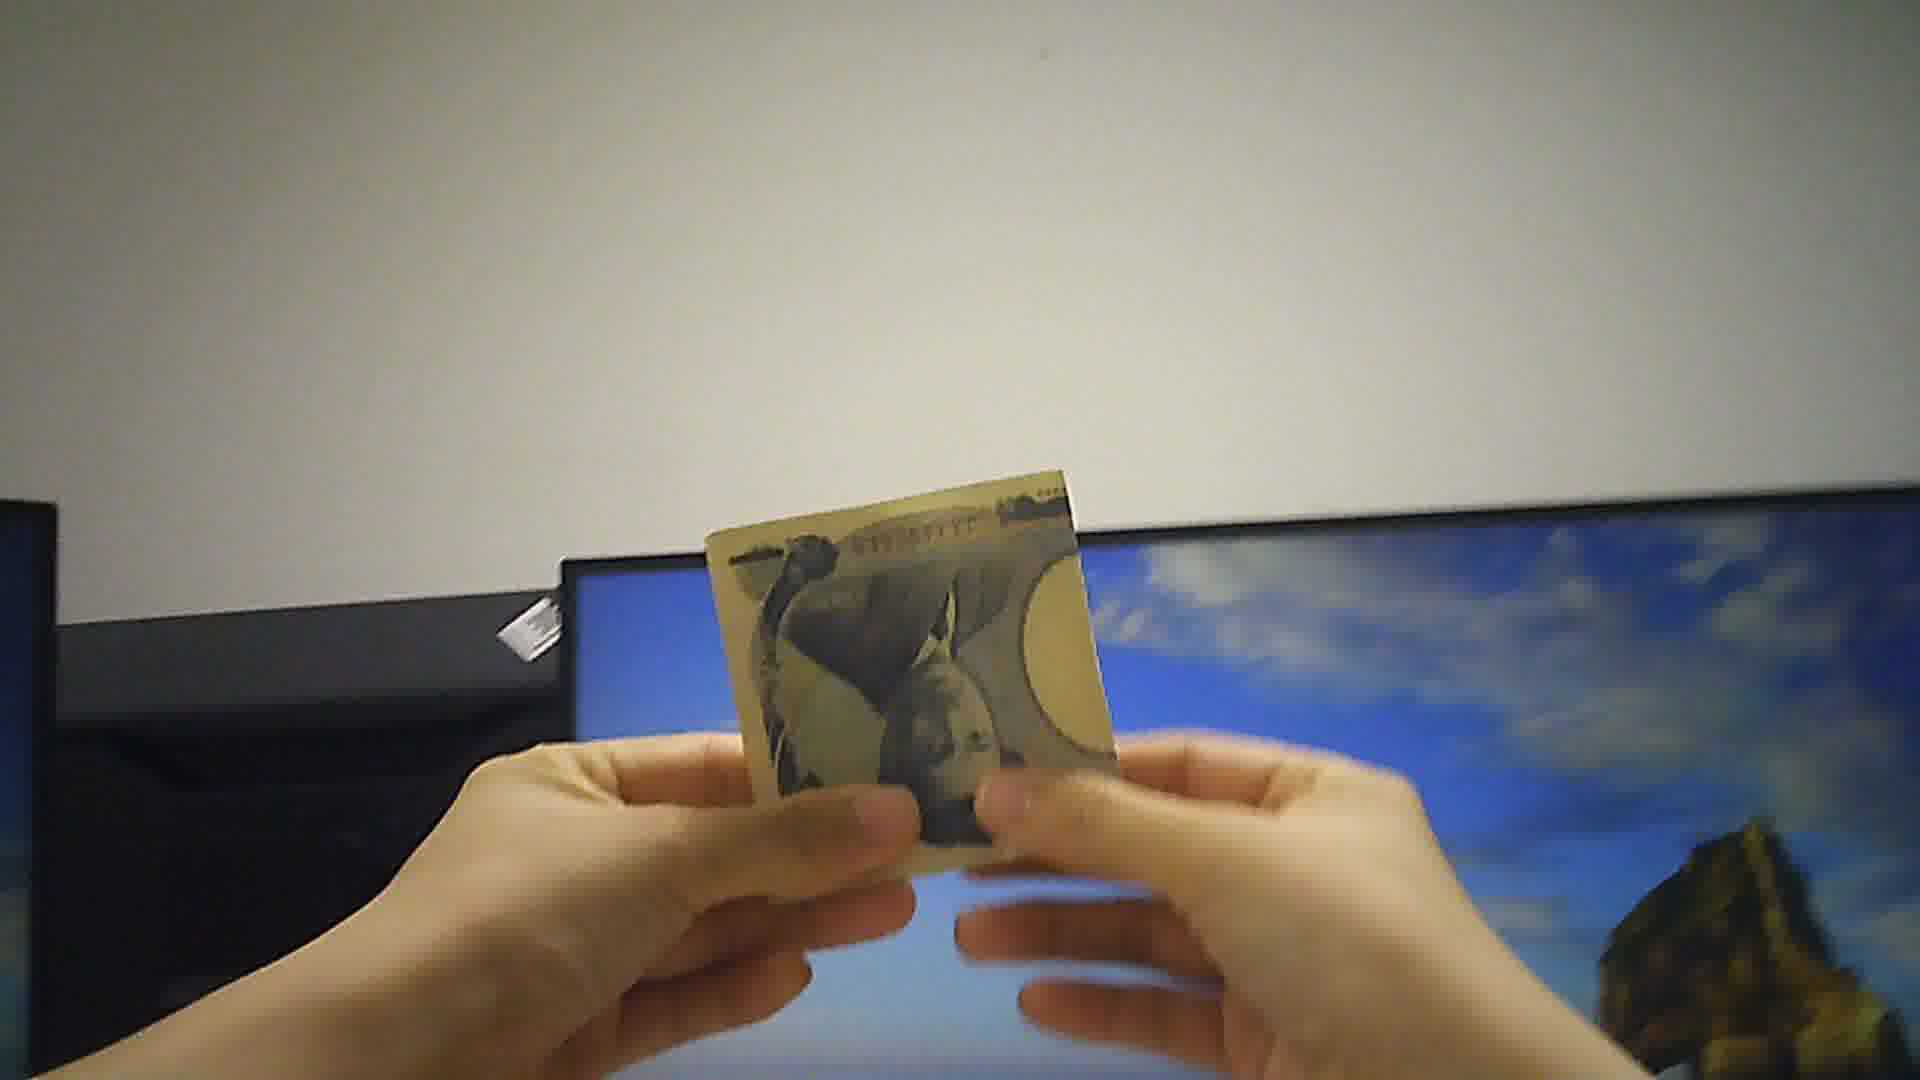1,000 Yen: (694, 473, 1145, 851)
